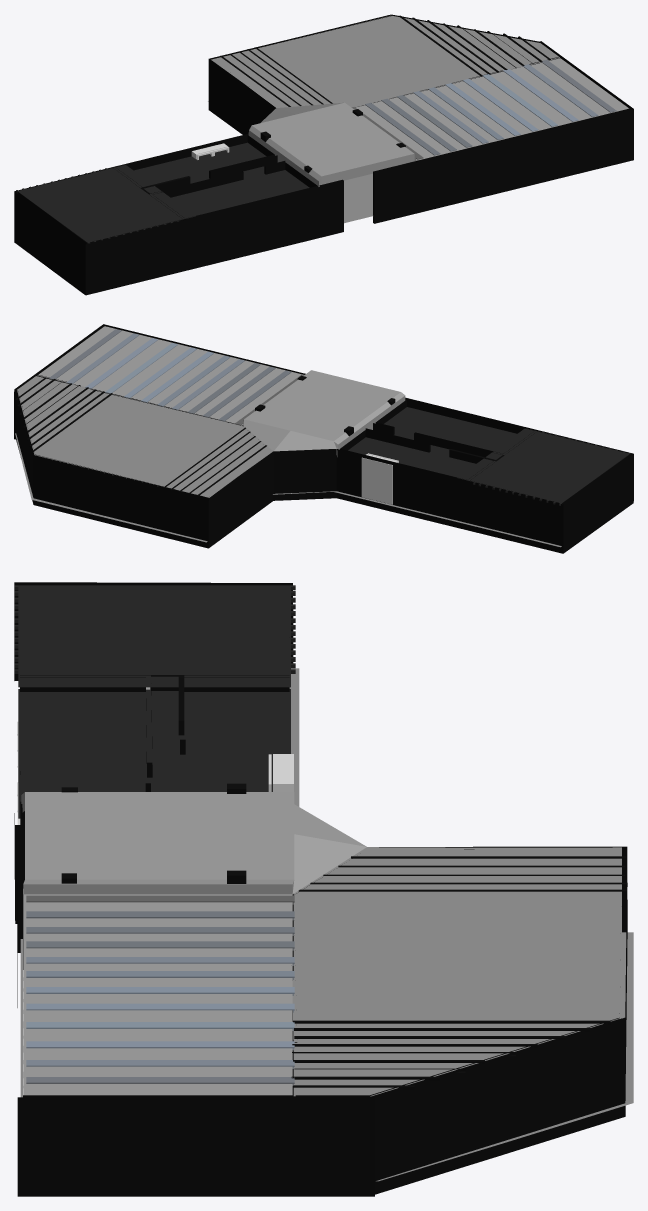
The model's file is Archive.fbx.
The picture shows the model from 3 angles, top to bottom: view 1: azimuth 30°, elevation 25°; view 2: azimuth 150°, elevation 25°; view 3: azimuth 270°, elevation 25°; orthographic projection. The views are drawn at different scales.
Visible parts, largest first — view 1: Wall, Ceiling.MainNBooks, Ceilinng.Painting, Ceiling.Statues, Ceiling.Corridor, Floor; view 2: Wall, Ceiling.MainNBooks, Ceilinng.Painting, Ceiling.Statues, Ceiling.Corridor, Cabinet, Floor; view 3: Ceiling.MainNBooks, Ceilinng.Painting, Wall, Ceiling.Statues, Ceiling.Corridor, Floor.
Boxes of the visible parts, bbox=[...] form: Wall: bbox=[14, 14, 633, 295]; Ceiling.MainNBooks: bbox=[248, 57, 628, 186]; Ceilinng.Painting: bbox=[211, 15, 559, 107]; Ceiling.Statues: bbox=[16, 164, 195, 243]; Ceiling.Corridor: bbox=[134, 142, 309, 215]; Floor: bbox=[208, 101, 372, 223]; Wall: bbox=[14, 324, 633, 553]; Ceiling.MainNBooks: bbox=[37, 326, 405, 456]; Ceilinng.Painting: bbox=[15, 376, 273, 497]; Ceiling.Statues: bbox=[457, 428, 630, 505]; Ceiling.Corridor: bbox=[348, 407, 516, 477]; Cabinet: bbox=[361, 454, 397, 504]; Floor: bbox=[15, 386, 561, 547]; Ceiling.MainNBooks: bbox=[21, 792, 366, 1095]; Ceilinng.Painting: bbox=[291, 847, 627, 1096]; Wall: bbox=[14, 582, 627, 1196]; Ceiling.Statues: bbox=[14, 585, 295, 687]; Ceiling.Corridor: bbox=[18, 689, 290, 818]; Floor: bbox=[20, 668, 633, 1181].
Bounding box in the file's own units: 66469 × 7103 × 33640.
